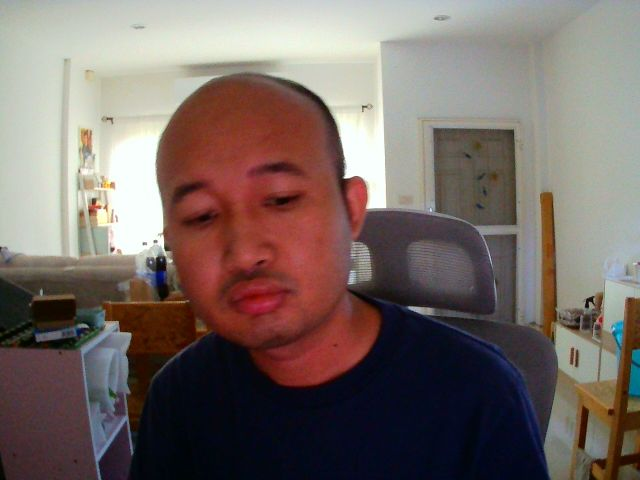face: (151, 69, 350, 351)
